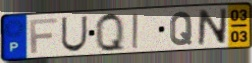F: (28, 17, 59, 55)
I: (131, 12, 141, 50)
N: (196, 7, 229, 47)
Q: (94, 11, 128, 53), (169, 11, 194, 47)
U: (60, 15, 89, 54)
